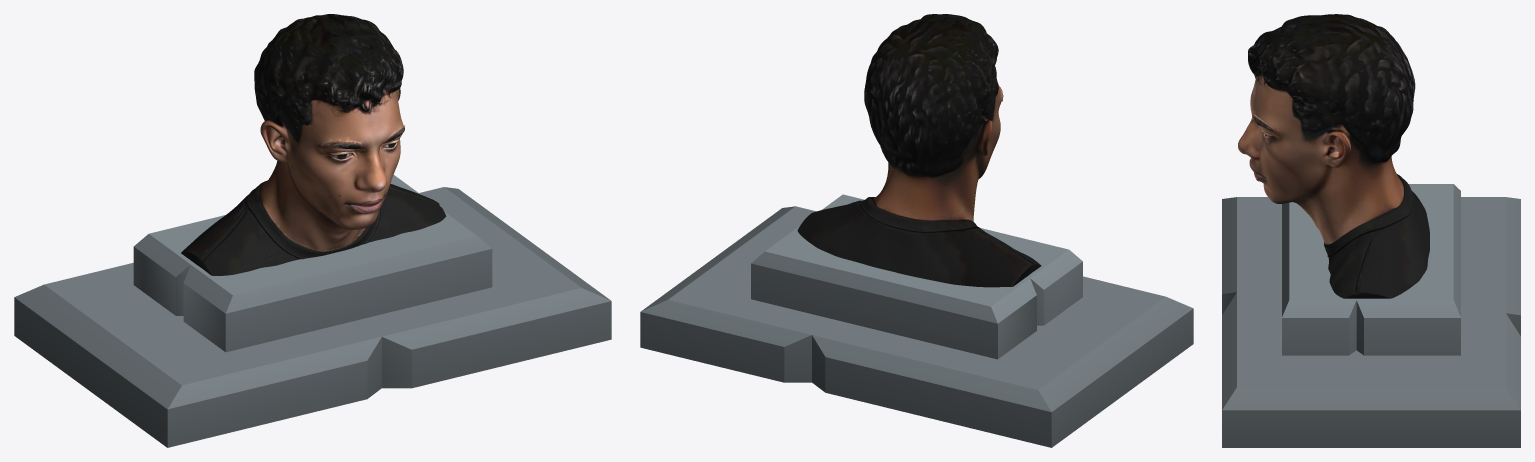
The model's file is estatua-v1.glb.
3 renders of one model, left to right at view 1: azimuth 30°, elevation 25°; view 2: azimuth 150°, elevation 25°; view 3: azimuth 270°, elevation 25°, orthographic. The views are drawn at different scales.
Parts seen in each view (by area): view 1: plaque, tmpka7hnjj5obj; view 2: plaque, tmpka7hnjj5obj; view 3: plaque, tmpka7hnjj5obj.
Part boxes in pixels (x1,y1,x2,y2): plaque: [14, 174, 611, 447]; tmpka7hnjj5obj: [181, 14, 446, 275]; plaque: [640, 194, 1193, 447]; tmpka7hnjj5obj: [797, 14, 1041, 287]; plaque: [1222, 184, 1520, 447]; tmpka7hnjj5obj: [1238, 14, 1429, 298].
Bounding box in the file's own units: 2.89 × 2.06 × 1.72.
2 materials, 2 textured.
